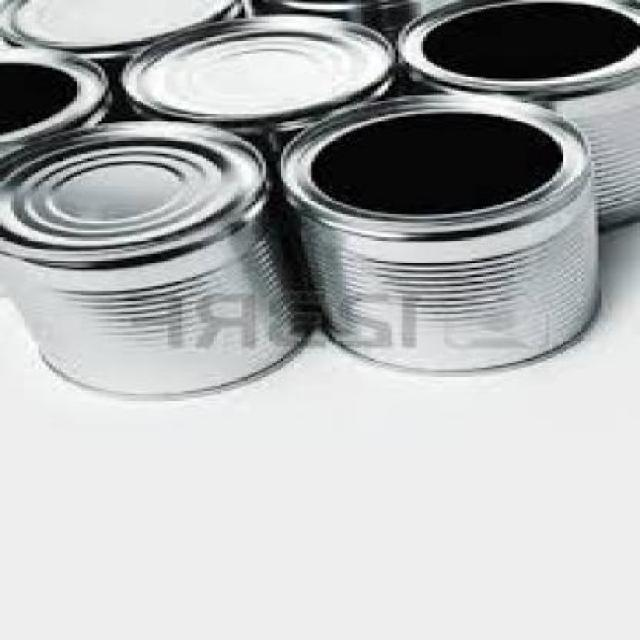METAL: (276, 88, 606, 370), (3, 116, 314, 396), (398, 0, 638, 232), (115, 9, 398, 126), (3, 0, 252, 72), (4, 44, 114, 161)
